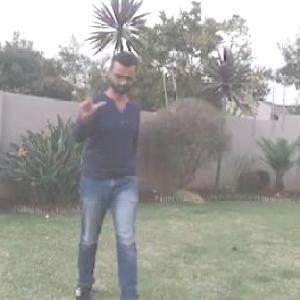land_hand: (71, 83, 110, 126)
